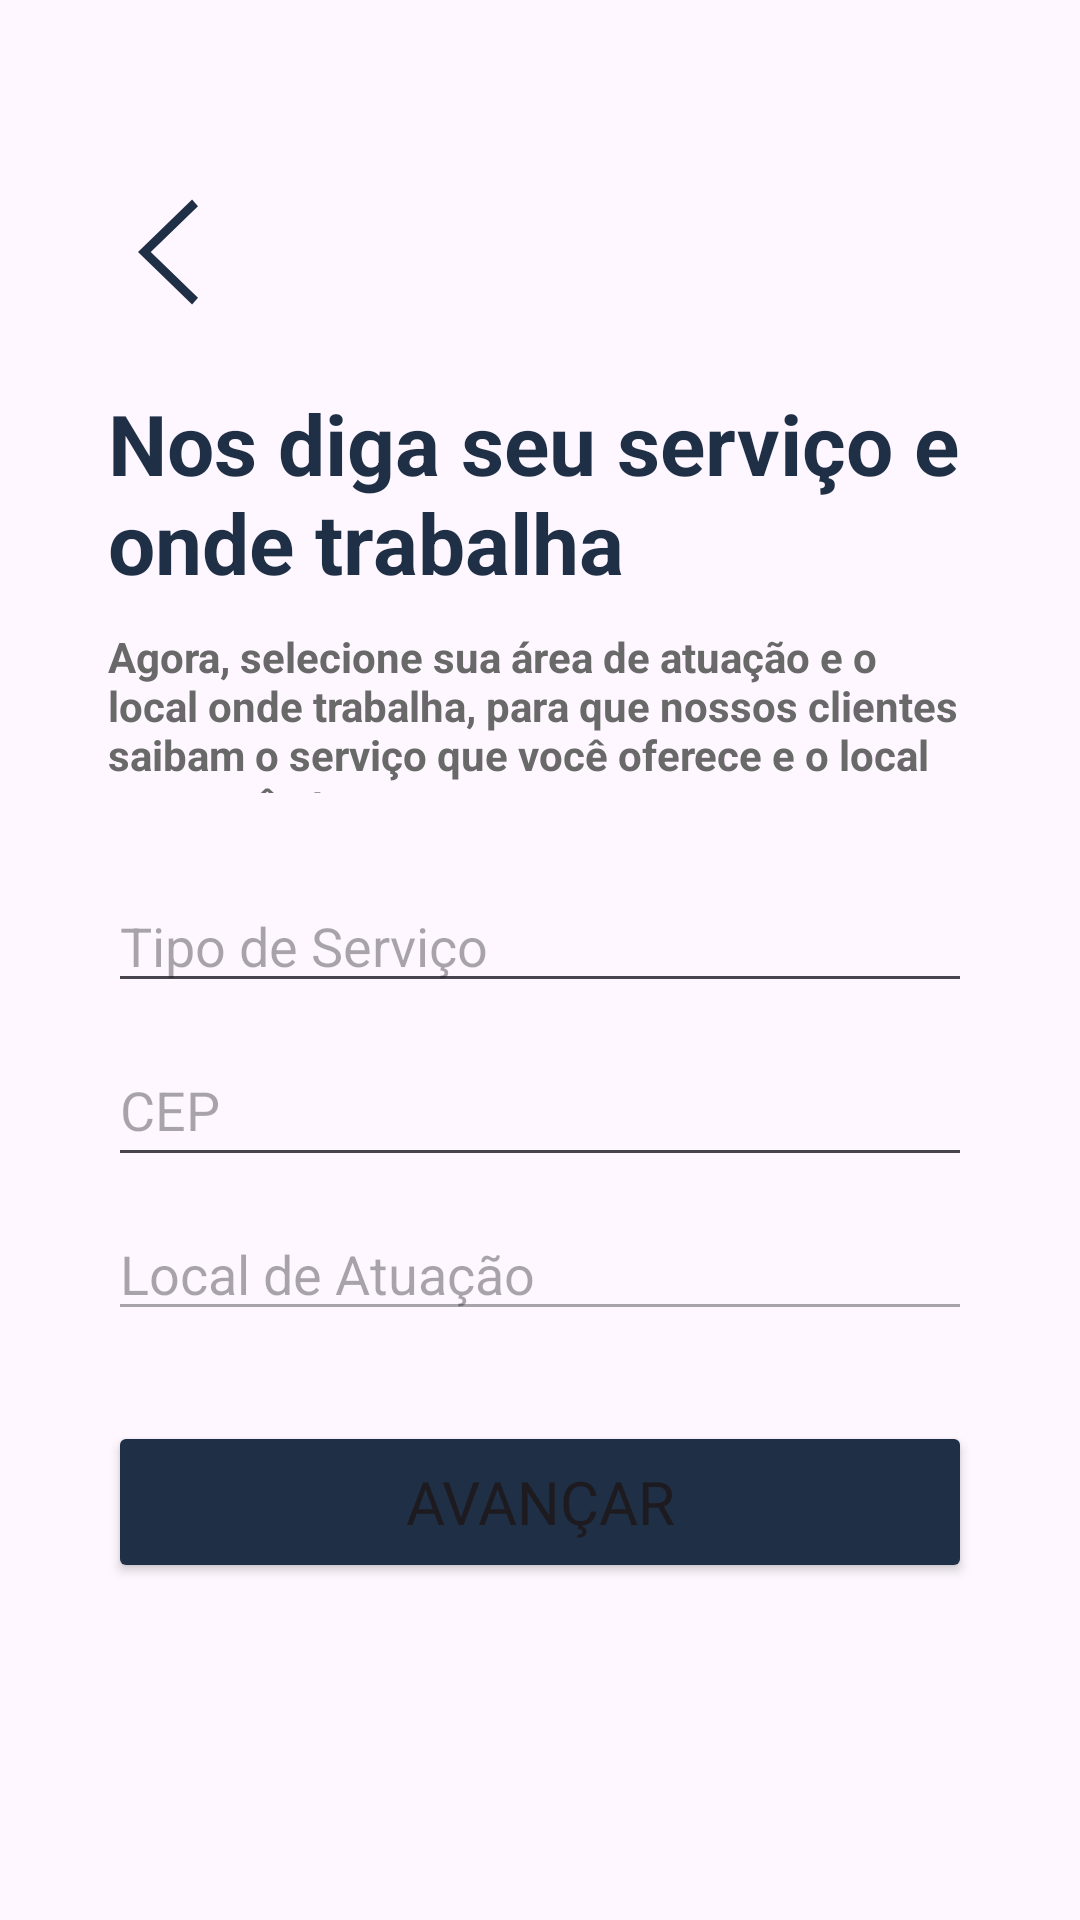

Named icons in this screenshot (1080px x 1920px) and their centers, (x=x, y=y):
icseta esquerda: (x=168, y=252)
